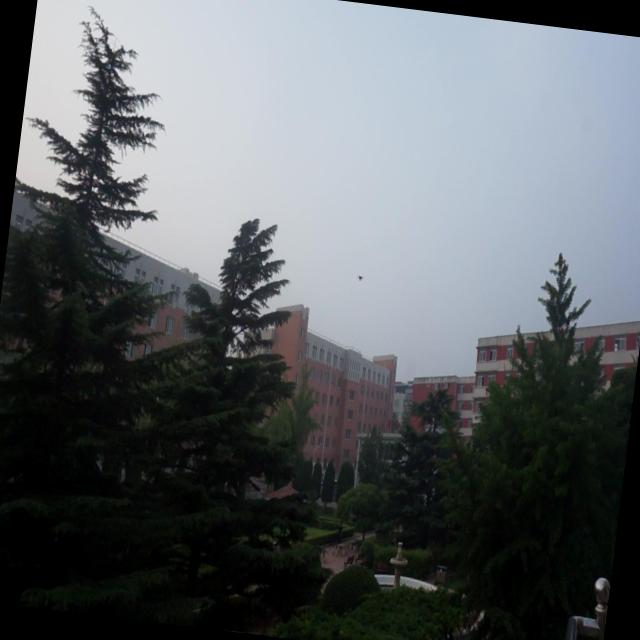drone: (353, 271, 368, 284)
